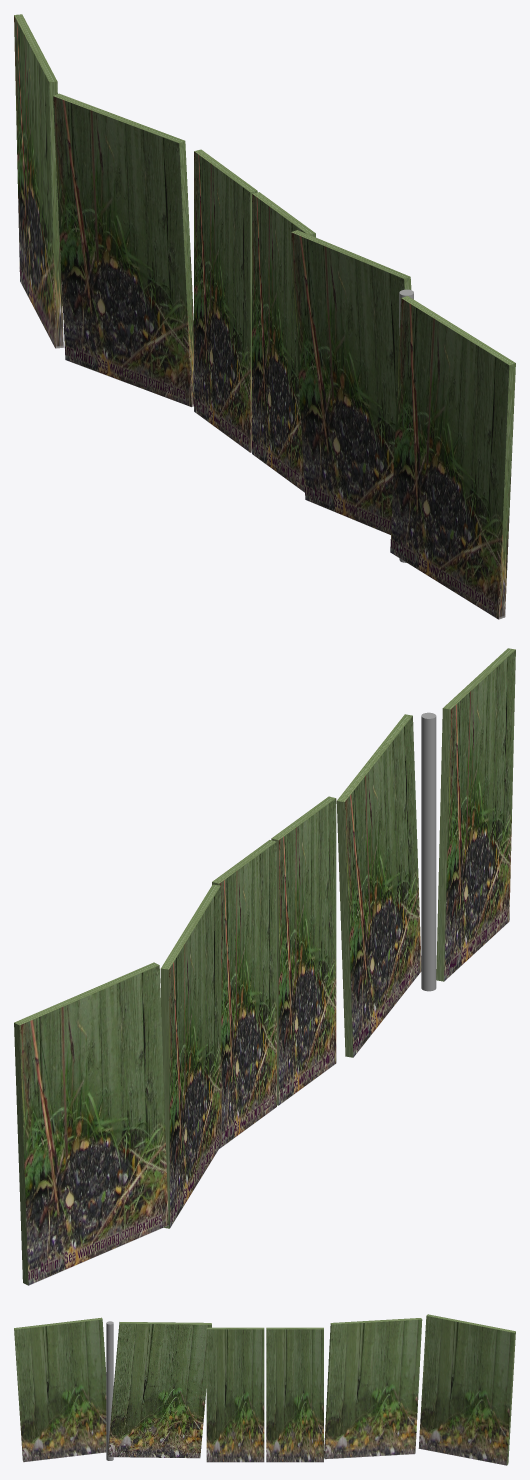
The model's file is Distressed_Construction_Panels.fbx.
The picture shows the model from 3 angles, top to bottom: view 1: azimuth 30°, elevation 25°; view 2: azimuth 150°, elevation 25°; view 3: azimuth 270°, elevation 25°; orthographic projection. The views are drawn at different scales.
Parts seen in each view (by area): view 1: pasted__pasted__pCube1, pasted__pasted__pCube2, pasted__pCube2, pasted__pCube1, pCube1, pasted__pasted__pasted__pCube1; view 2: pasted__pasted__pasted__pCube1, pasted__pCube2, pasted__pasted__pCube2, pCube1, pasted__pasted__pCube1, pasted__pCube1, pCylinder1; view 3: pasted__pasted__pCube1, pasted__pCube2, pasted__pasted__pasted__pCube1, pasted__pasted__pCube2, pCube1, pasted__pCube1, pCylinder1.
Boxes of the visible parts, <box> form: pasted__pasted__pCube1: <box>53,93,193,407</box>; pasted__pasted__pCube2: <box>390,296,515,619</box>; pasted__pCube2: <box>291,230,411,534</box>; pasted__pCube1: <box>194,149,257,452</box>; pCube1: <box>252,192,315,492</box>; pasted__pasted__pasted__pCube1: <box>14,14,63,348</box>; pasted__pasted__pasted__pCube1: <box>14,962,168,1285</box>; pasted__pCube2: <box>336,714,421,1057</box>; pasted__pasted__pCube2: <box>436,648,515,981</box>; pCube1: <box>271,796,336,1105</box>; pasted__pasted__pCube1: <box>160,884,221,1228</box>; pasted__pCube1: <box>212,840,276,1148</box>; pCylinder1: <box>421,712,436,991</box>; pasted__pasted__pCube1: <box>324,1318,422,1459</box>; pasted__pCube2: <box>107,1322,211,1458</box>; pasted__pasted__pasted__pCube1: <box>418,1314,515,1465</box>; pasted__pasted__pCube2: <box>14,1317,106,1462</box>; pCube1: <box>206,1327,264,1462</box>; pasted__pCube1: <box>266,1327,323,1462</box>; pCylinder1: <box>106,1321,113,1460</box>.
Bounding box in the file's own units: 1.12 × 4.52 × 14.38.
